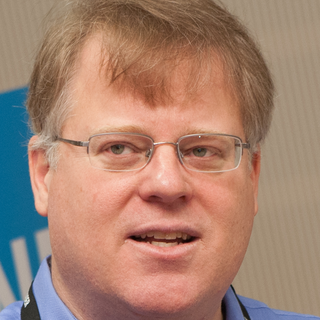eye: (179, 140, 224, 166), (95, 139, 142, 162)
